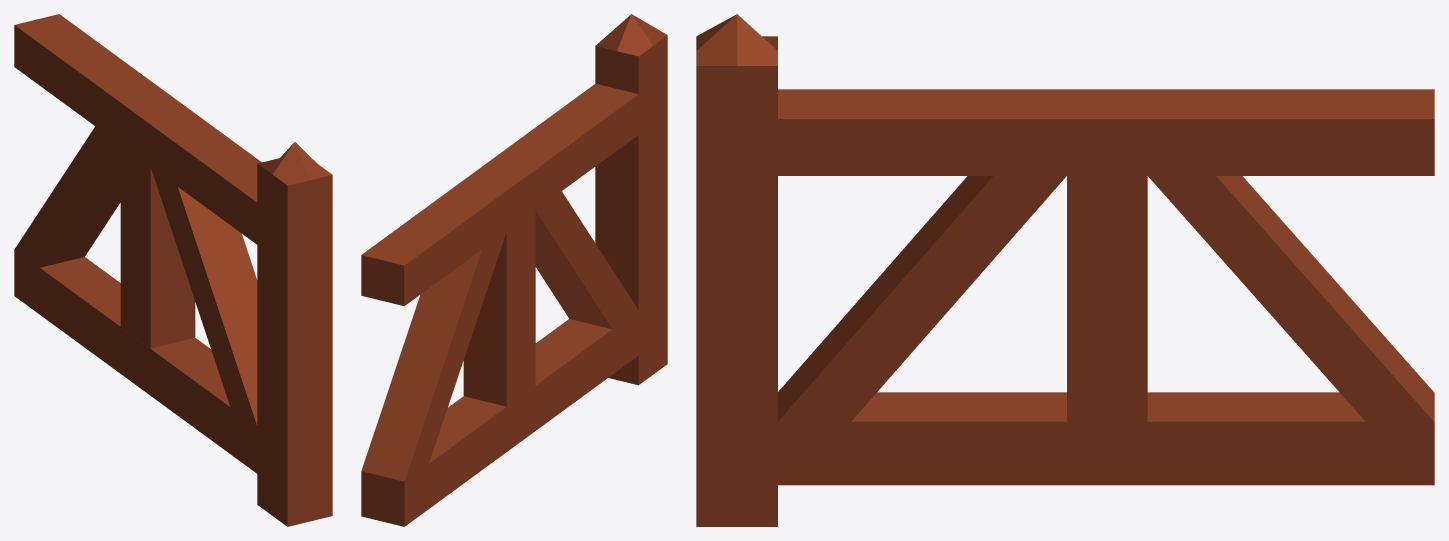
File: Fence Wood 3.fbx
3 views of the same model, side by side, from view 1: azimuth 30°, elevation 25°; view 2: azimuth 150°, elevation 25°; view 3: azimuth 270°, elevation 25° (orthographic). The views are drawn at different scales.
Parts seen in each view (by area): view 1: Cubo.001; view 2: Cubo.001; view 3: Cubo.001.
Boxes of the visible parts, x1=… form: Cubo.001: x1=14, y1=14, x2=332, y2=526; Cubo.001: x1=361, y1=14, x2=667, y2=526; Cubo.001: x1=696, y1=14, x2=1434, y2=526.
Bounding box in the file's own units: 22.49 × 177 × 237.
